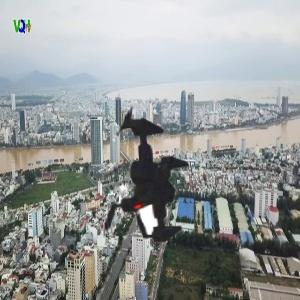drone: (35, 78, 241, 284)
